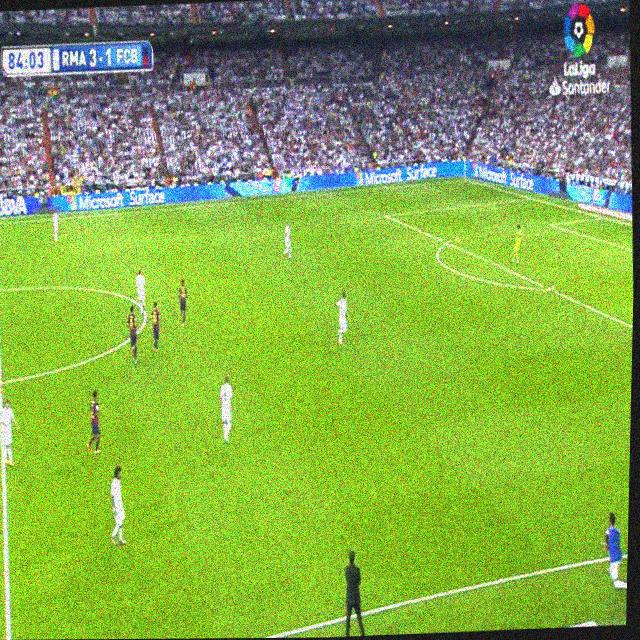bottom_arc_area_intersection: (542, 280, 554, 296)
halfcircle_bottom: (0, 368, 6, 394)
top_arc_area_intersection: (442, 234, 450, 248)
